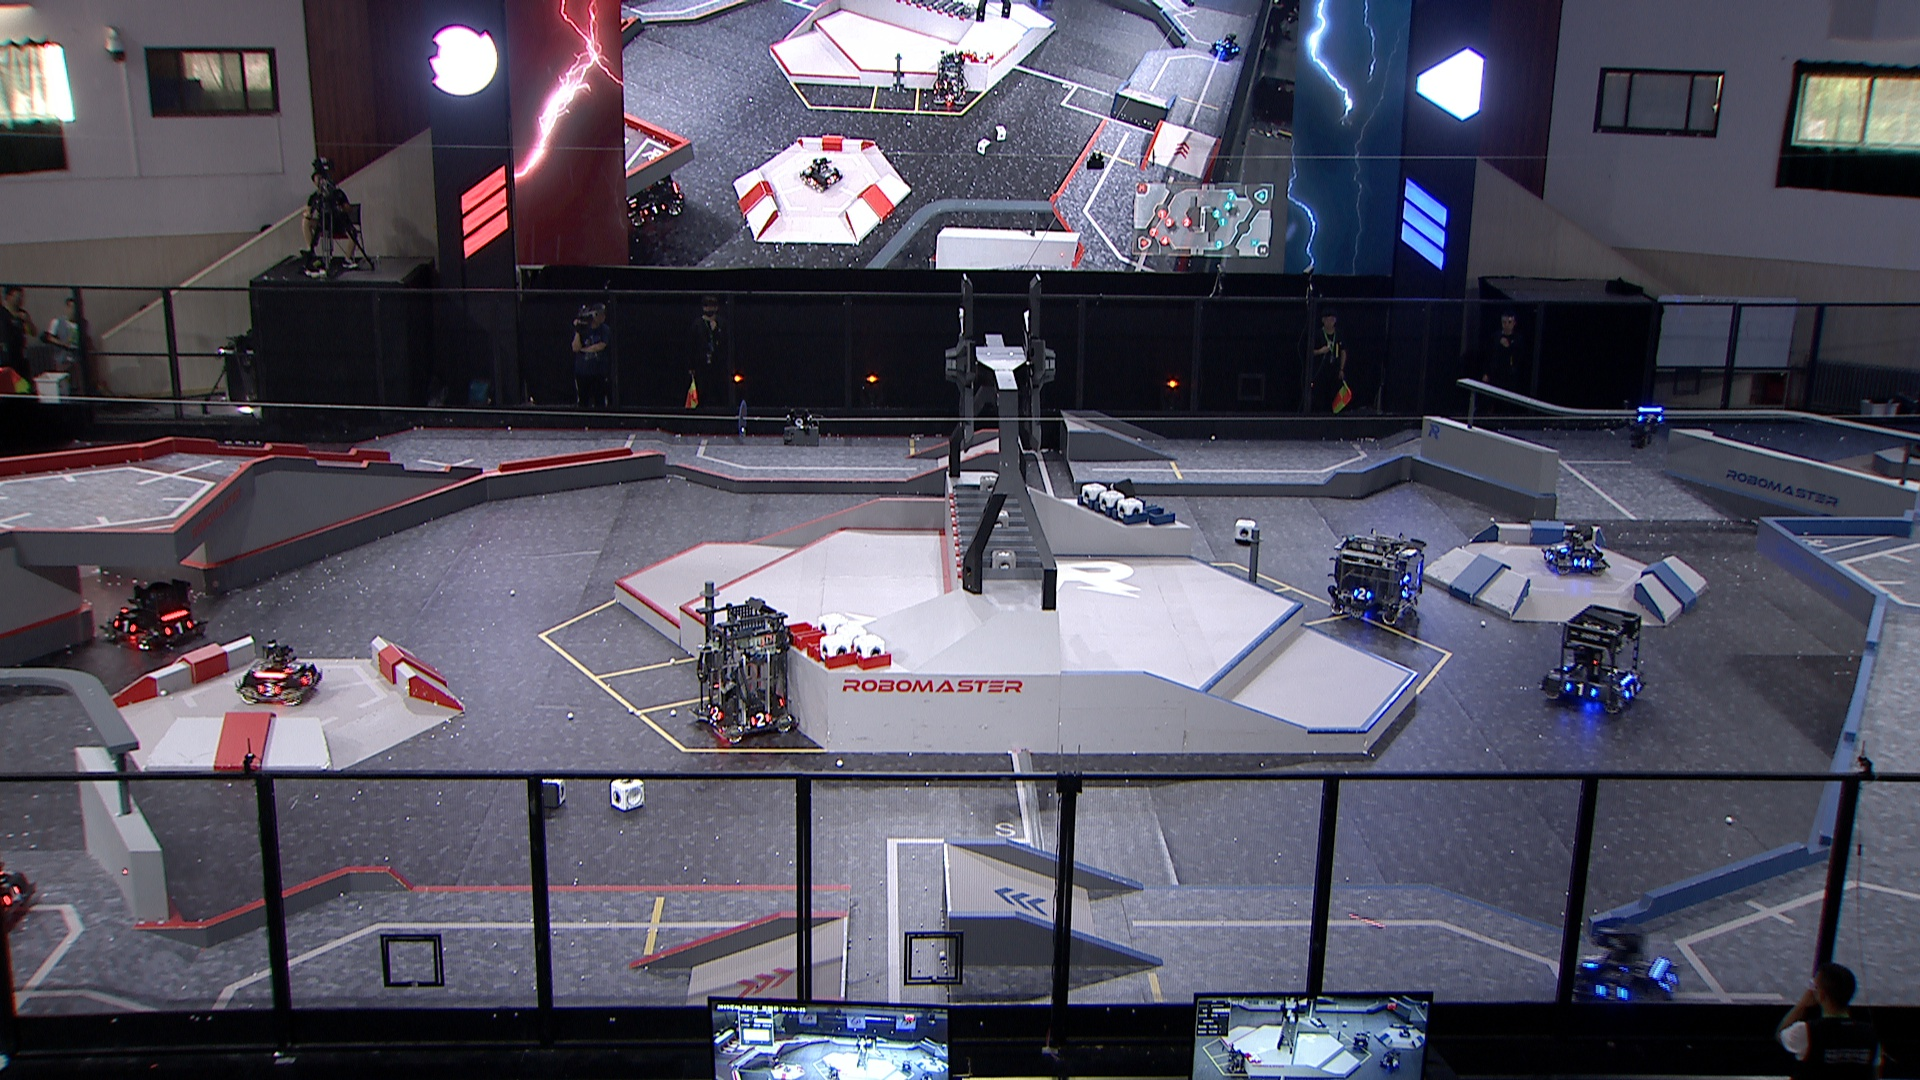armor: (1564, 678, 1596, 699), (1598, 982, 1625, 1002), (3, 882, 24, 905), (167, 617, 193, 636), (255, 680, 281, 698), (746, 711, 773, 728), (1580, 948, 1598, 971), (1622, 678, 1640, 698), (708, 704, 727, 723), (1665, 969, 1679, 994), (1636, 413, 1664, 425), (112, 618, 136, 632), (1352, 588, 1373, 603), (299, 671, 319, 684), (285, 657, 301, 673), (1572, 556, 1592, 568), (1542, 550, 1556, 562), (1400, 584, 1411, 600), (1553, 542, 1567, 551)
car: (684, 599, 798, 742), (1536, 599, 1650, 713), (1571, 924, 1684, 1019), (1325, 531, 1425, 636), (100, 575, 207, 655), (233, 640, 324, 707), (1538, 524, 1613, 580)
ignore: (927, 50, 972, 109), (655, 171, 688, 216), (624, 189, 659, 225), (800, 154, 840, 187), (1207, 32, 1244, 62), (1224, 1046, 1250, 1077), (1348, 1027, 1371, 1055), (1378, 1048, 1404, 1072), (1396, 1022, 1418, 1044), (822, 1064, 843, 1080), (899, 1058, 913, 1072), (920, 1071, 935, 1080)
watcher: (1622, 392, 1671, 452)
